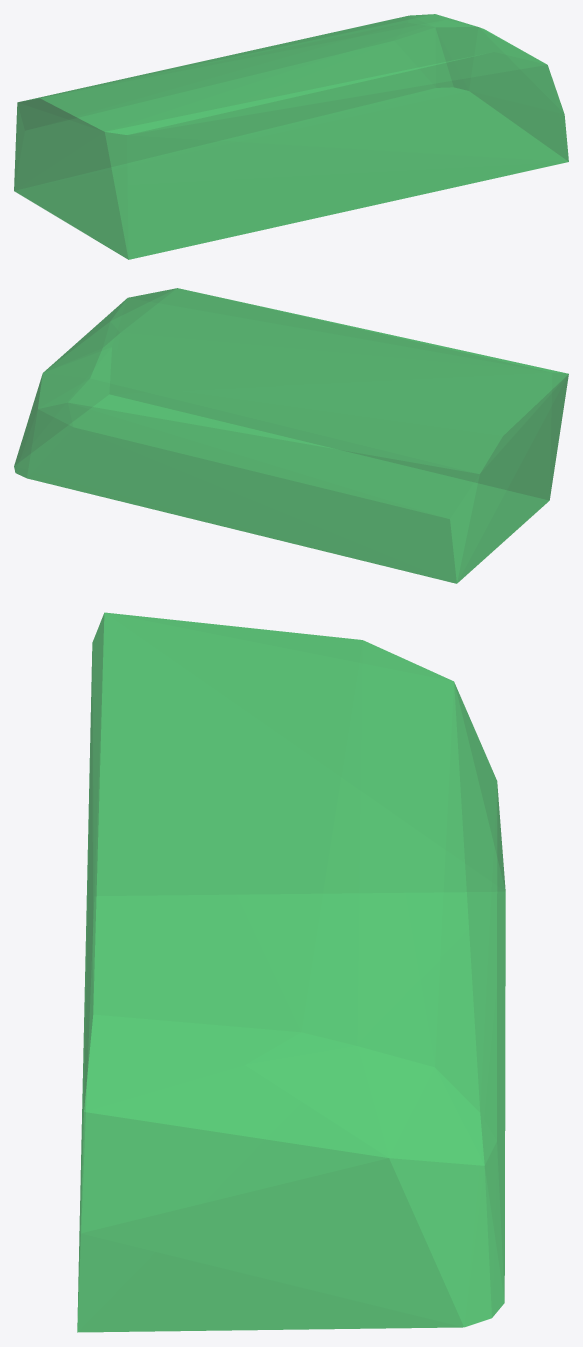
3 renders of one model, top to bottom at view 1: azimuth 30°, elevation 25°; view 2: azimuth 150°, elevation 25°; view 3: azimuth 270°, elevation 25°, orthographic. The views are drawn at different scales.
Visible parts, largest first — view 1: Shape_IndexedFaceSet.001_Shape_IndexedFaceSet.3578; view 2: Shape_IndexedFaceSet.001_Shape_IndexedFaceSet.3578; view 3: Shape_IndexedFaceSet.001_Shape_IndexedFaceSet.3578.
Part boxes in pixels (x1,y1,x2,y2): Shape_IndexedFaceSet.001_Shape_IndexedFaceSet.3578: (14, 14, 568, 259); Shape_IndexedFaceSet.001_Shape_IndexedFaceSet.3578: (14, 288, 568, 583); Shape_IndexedFaceSet.001_Shape_IndexedFaceSet.3578: (77, 612, 505, 1332).
Size of the model in its own units: 0.531 by 0.1517 by 0.2154.
